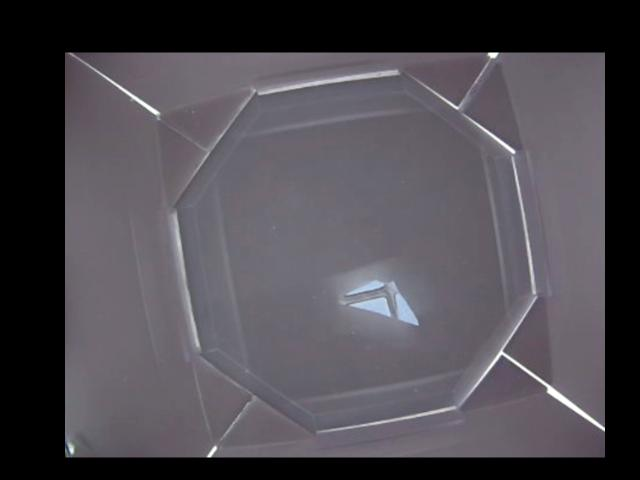China: (340, 282, 420, 326)
